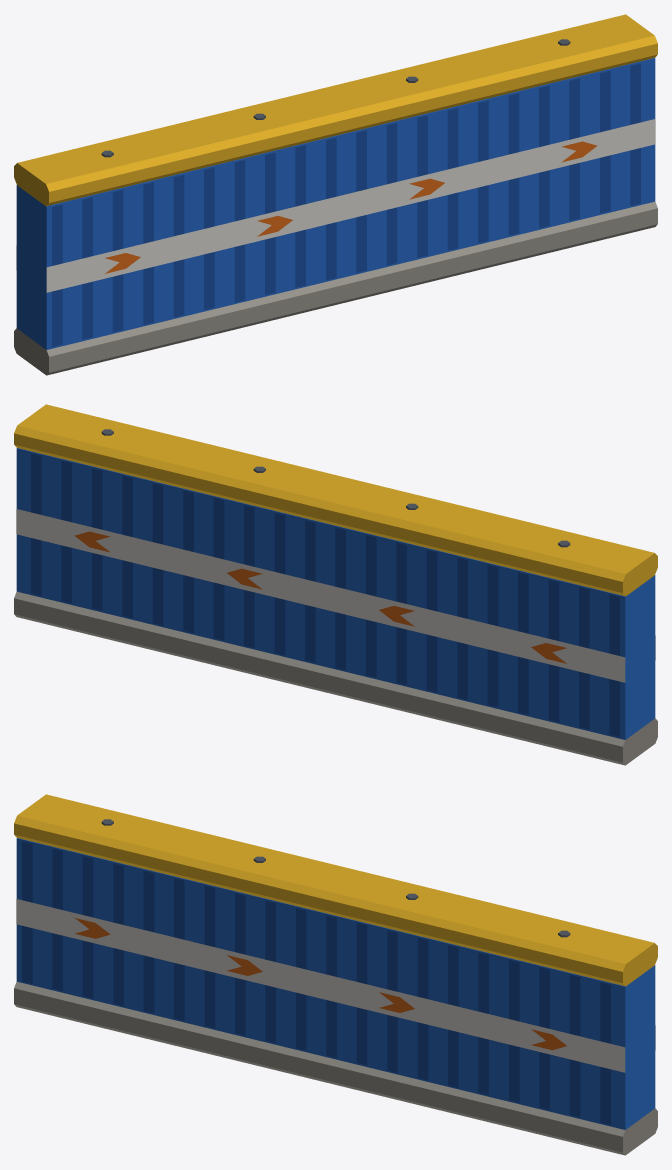
Rendered from site-wall2.glb.
3 views of the same model, one above another, from view 1: azimuth 30°, elevation 25°; view 2: azimuth 150°, elevation 25°; view 3: azimuth 330°, elevation 25° (orthographic).
Parts seen in each view (by area): view 1: site-wall2; view 2: site-wall2; view 3: site-wall2.
Boxes of the visible parts, x1,y1,x2,y2 form: site-wall2: [14, 14, 657, 375]; site-wall2: [14, 404, 657, 765]; site-wall2: [14, 794, 657, 1155].
Size of the model in its own units: 4 by 1.21 by 0.4.
